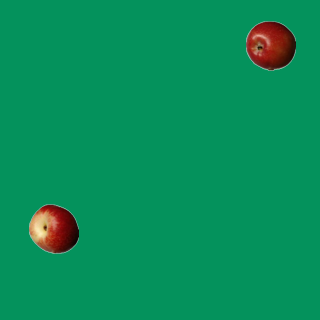Apple Braeburn: (245, 20, 295, 70)
Nectarine: (28, 203, 78, 253)
